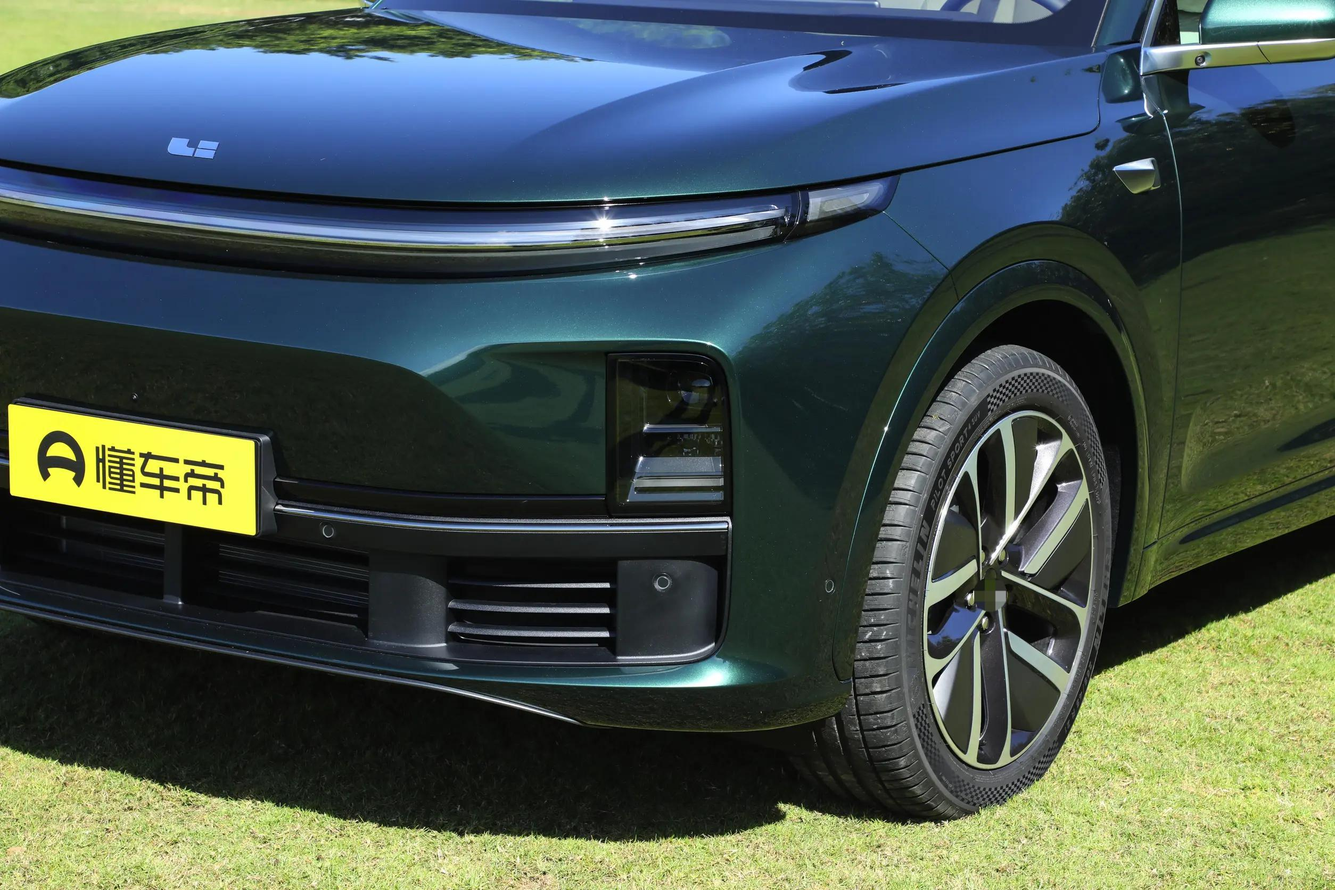Li Auto: (166, 137, 220, 160)
